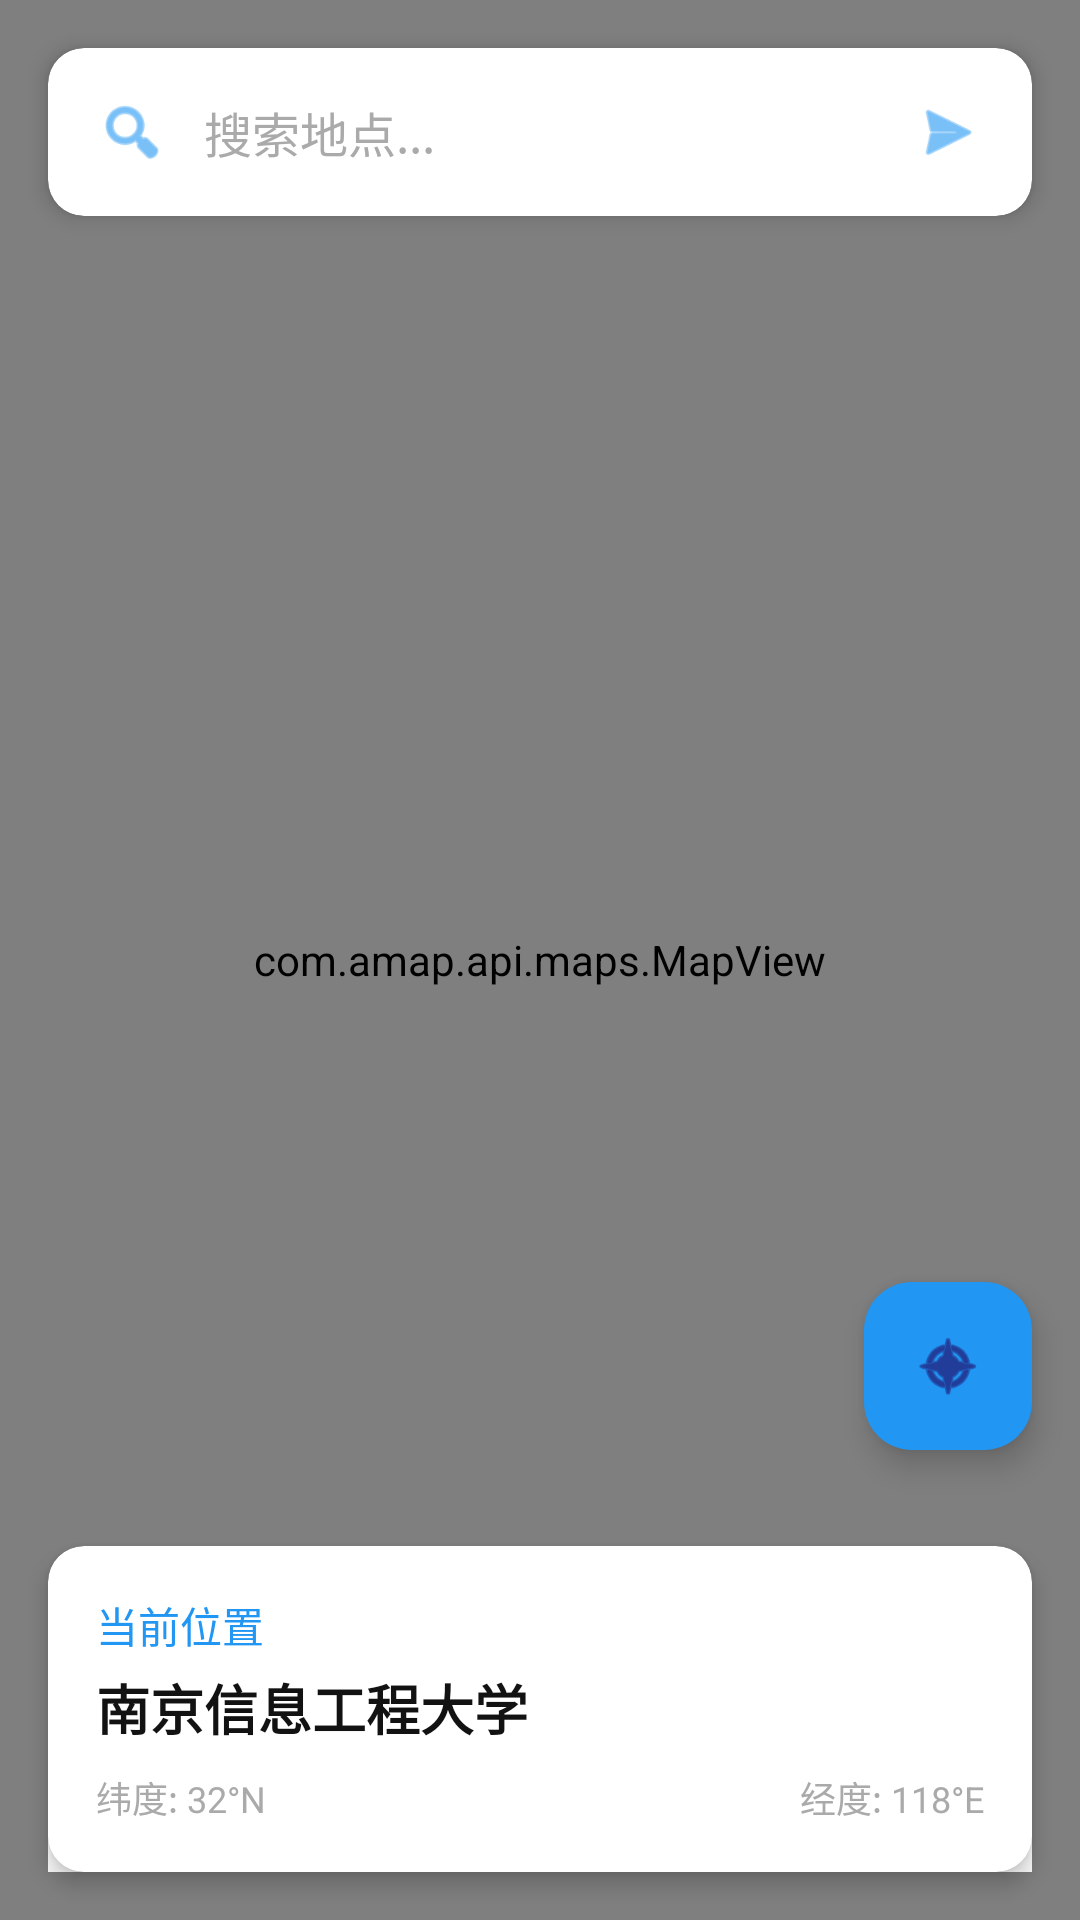

Screen size 1080px x 1920px. Icon name, then its center in pixels as [x,y]:
compass: [948,1366]
search: [132,132]
send: [949,132]
